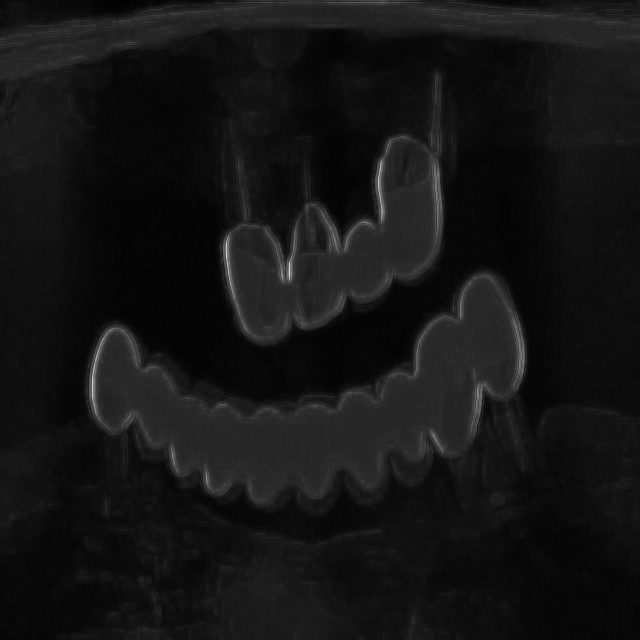Class 1- complete endodontic treatment: (184, 99, 288, 368)
Class 2- incomplete endodontic treatment: (453, 266, 571, 529), (374, 69, 481, 294), (279, 119, 350, 342)
cavity: (72, 286, 150, 581)
